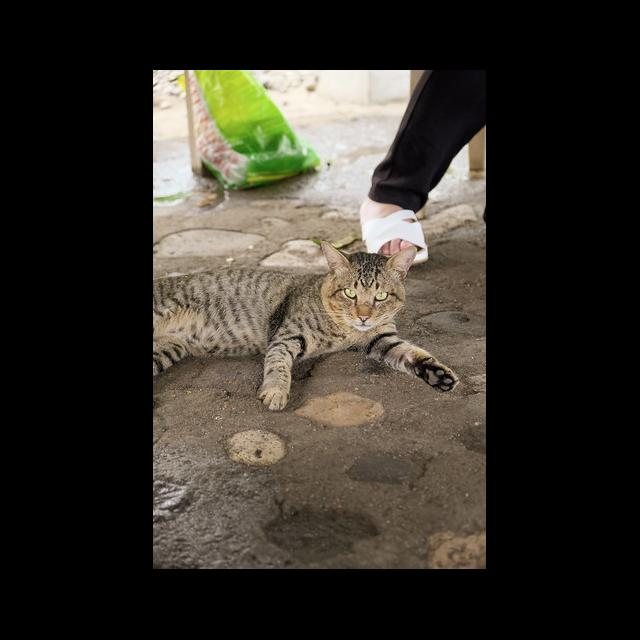animals: (154, 240, 458, 413)
